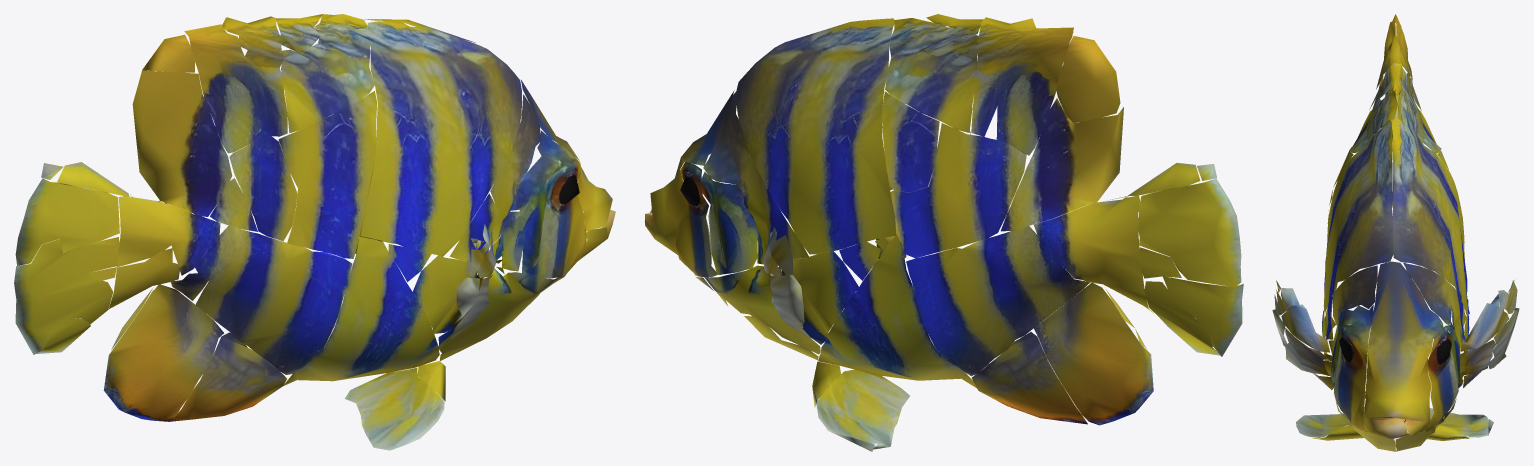
Rendered from fish_angel.glb.
3 views of the same model, side by side, from view 1: azimuth 30°, elevation 25°; view 2: azimuth 150°, elevation 25°; view 3: azimuth 270°, elevation 25° (orthographic). The views are drawn at different scales.
Parts seen in each view (by area): view 1: tripo_node_42648be5-ebac-4d2e-9794-24eaf7e11ae8; view 2: tripo_node_42648be5-ebac-4d2e-9794-24eaf7e11ae8; view 3: tripo_node_42648be5-ebac-4d2e-9794-24eaf7e11ae8.
Part boxes in pixels (box(x1,y1,x2,y2)): tripo_node_42648be5-ebac-4d2e-9794-24eaf7e11ae8: box(14, 14, 615, 450); tripo_node_42648be5-ebac-4d2e-9794-24eaf7e11ae8: box(644, 14, 1243, 451); tripo_node_42648be5-ebac-4d2e-9794-24eaf7e11ae8: box(1272, 14, 1519, 451).
Bounding box in the file's own units: 1 × 0.6698 × 0.4303.
Materials: 1 (1 with a texture image).
